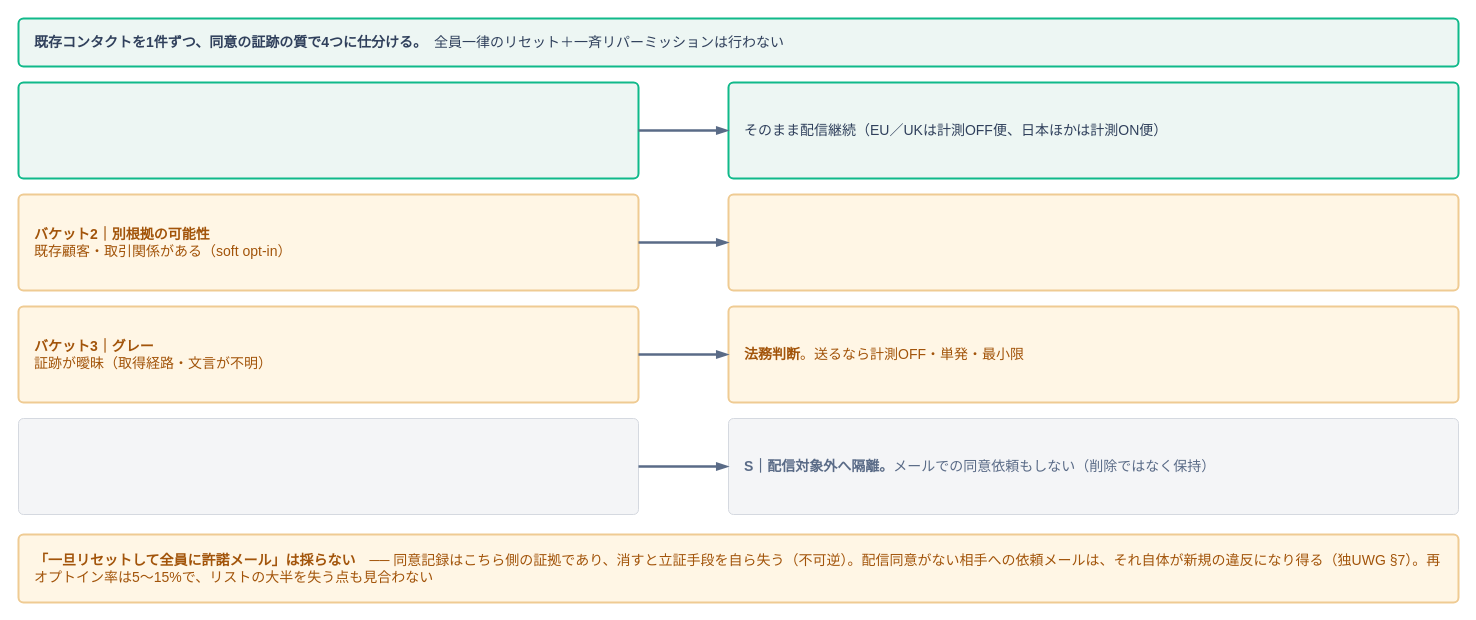
This 1476x620 diagram has some shape labels left out. Each missing label, with the box of its shape:
バケット1｜有効 取得日時・取得元・文言の証跡が残っている: (17, 81, 639, 179)
バケット4｜無効 購入リスト・スクレイピング・抱き合わせ同意: (18, 418, 638, 514)
法務判断 のうえ配信継続 ── 確認の優先度は最も高い: (727, 193, 1459, 291)
